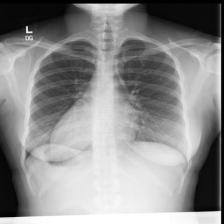normal: (21, 36, 191, 176)
